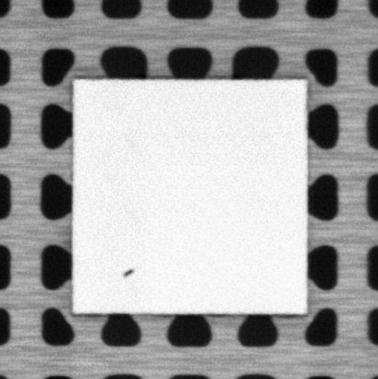DIE_INK: (121, 265, 139, 279)
